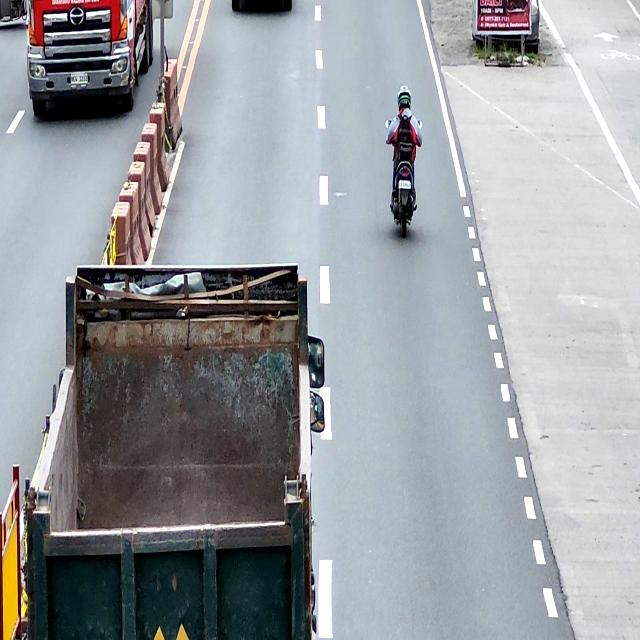License-Plate: (70, 74, 88, 85), (398, 181, 411, 190)
Motorcycle: (386, 117, 423, 239)
Truck: (26, 262, 325, 640), (26, 0, 155, 119)
